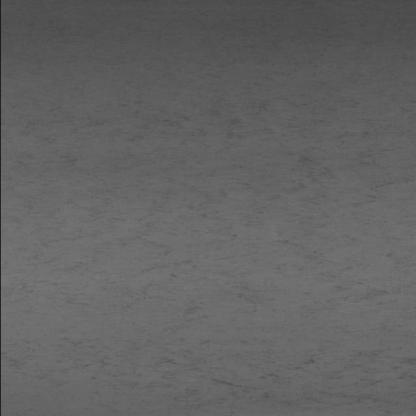silk_spot: (60, 83, 364, 301)
